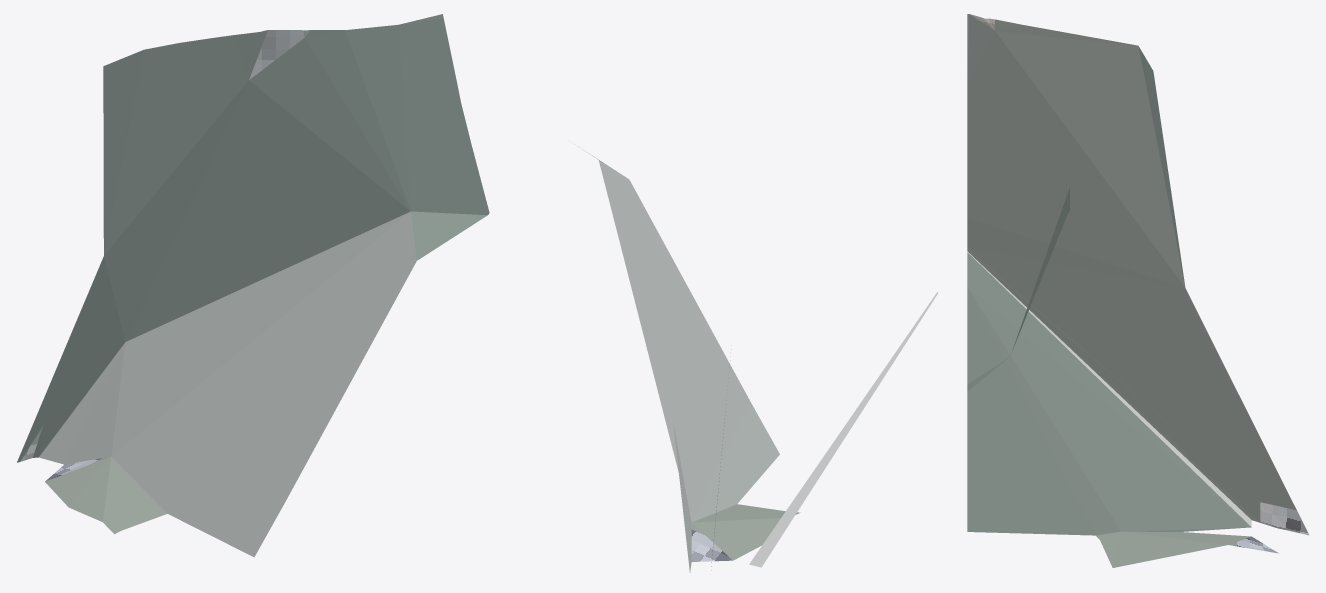
3 views of the same model, side by side, from view 1: azimuth 30°, elevation 25°; view 2: azimuth 150°, elevation 25°; view 3: azimuth 270°, elevation 25° (orthographic). The views are drawn at different scales.
Size of the model in its own units: 0.4626 by 0.4915 by 0.3103.
1 material, 1 textured.
